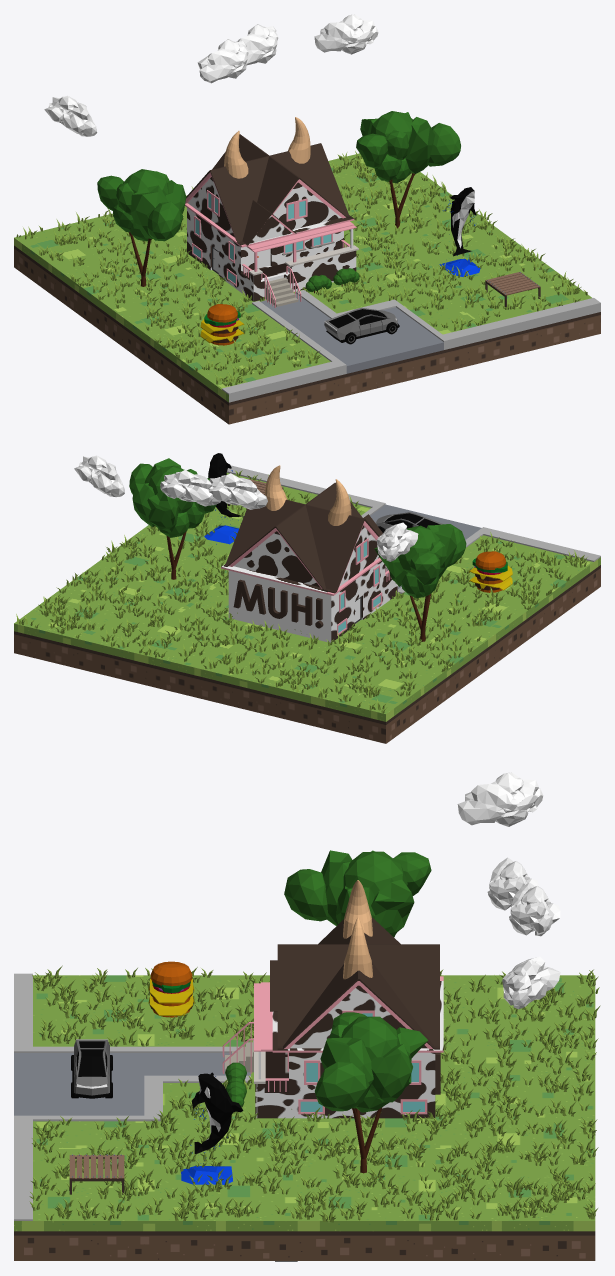
The picture shows the model from 3 angles, top to bottom: view 1: azimuth 30°, elevation 25°; view 2: azimuth 150°, elevation 25°; view 3: azimuth 270°, elevation 25°; orthographic projection. The views are drawn at different scales.
Visible parts, largest first — view 1: Cube.006, Cube.1242, Circle.012_Grass_0.192, Cube.007, tree, tree.001, VEHICLES_CYBERTRUCK, ANIMAL_ORCA, OBJRANDOM_HAMBURGER, Cube.009; view 2: Cube.006, Cube.1242, Circle.012_Grass_0.192, Cube.007, tree.001, tree, OBJRANDOM_HAMBURGER, ANIMAL_ORCA, VEHICLES_CYBERTRUCK; view 3: Cube.006, Circle.012_Grass_0.192, Cube.1242, tree, Cube.007, tree.001, ANIMAL_ORCA, VEHICLES_CYBERTRUCK, OBJRANDOM_HAMBURGER, Cube.009.
Part boxes in pixels (x1,y1,x2,y2): Cube.006: [14, 153, 600, 424]; Cube.1242: [185, 117, 358, 307]; Circle.012_Grass_0.192: [16, 151, 587, 386]; Cube.007: [44, 14, 378, 136]; tree: [356, 111, 460, 228]; tree.001: [97, 169, 186, 286]; VEHICLES_CYBERTRUCK: [324, 308, 399, 344]; ANIMAL_ORCA: [439, 187, 480, 276]; OBJRANDOM_HAMBURGER: [200, 304, 244, 345]; Cube.009: [485, 272, 540, 306]; Cube.006: [14, 465, 600, 743]; Cube.1242: [221, 465, 397, 642]; Circle.012_Grass_0.192: [16, 470, 587, 713]; Cube.007: [74, 455, 418, 561]; tree.001: [374, 524, 466, 641]; tree: [129, 458, 216, 579]; OBJRANDOM_HAMBURGER: [469, 551, 512, 592]; ANIMAL_ORCA: [204, 453, 243, 544]; VEHICLES_CYBERTRUCK: [375, 512, 443, 532]; Cube.006: [14, 973, 595, 1260]; Circle.012_Grass_0.192: [29, 965, 600, 1222]; Cube.1242: [222, 880, 443, 1118]; tree: [314, 1012, 427, 1173]; Cube.007: [457, 772, 560, 1009]; tree.001: [284, 850, 431, 937]; ANIMAL_ORCA: [181, 1072, 243, 1184]; VEHICLES_CYBERTRUCK: [71, 1039, 112, 1098]; OBJRANDOM_HAMBURGER: [148, 961, 194, 1017]; Cube.009: [69, 1154, 124, 1194].
Bounding box in the file's own units: 4071 × 2184 × 4040.
Materials: 36 (3 with a texture image).
